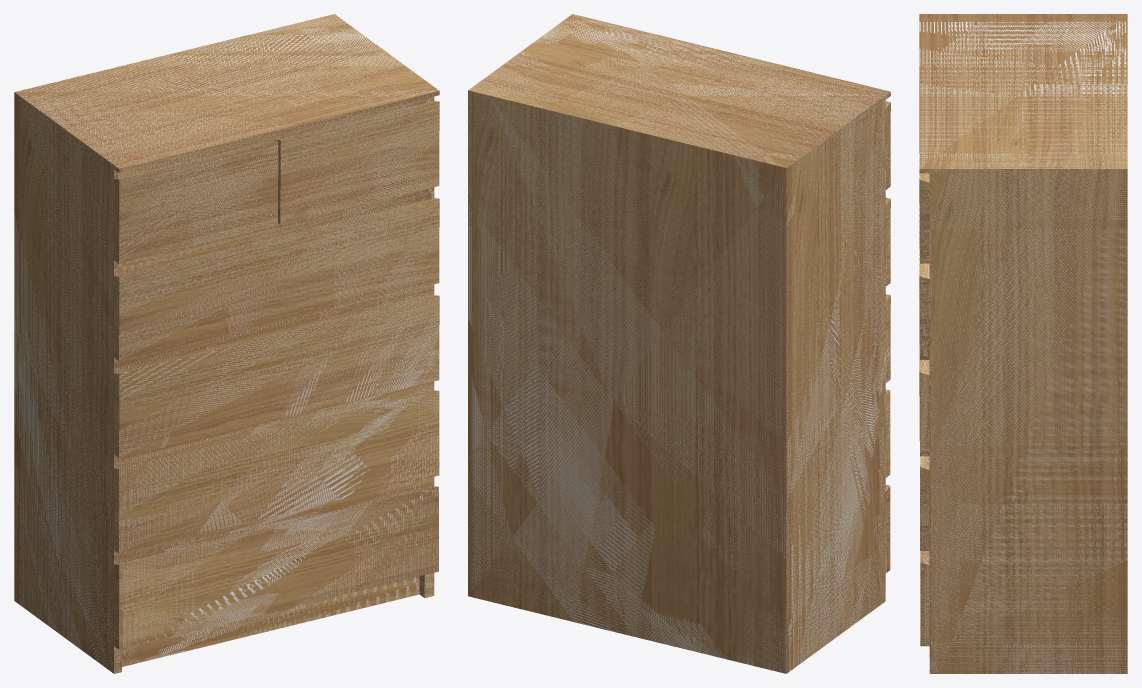
Rendered from Kommode_Malm_hoch.dae.
The picture shows the model from 3 angles, left to right: view 1: azimuth 30°, elevation 25°; view 2: azimuth 150°, elevation 25°; view 3: azimuth 270°, elevation 25°; orthographic projection.
Visible parts, largest first — view 1: SketchUp; view 2: SketchUp; view 3: SketchUp.
Boxes of the visible parts, bbox=[...] form: SketchUp: bbox=[14, 14, 439, 673]; SketchUp: bbox=[468, 14, 890, 673]; SketchUp: bbox=[919, 14, 1127, 673].
Bounding box in the file's own units: 0.81 × 0.46 × 1.23.
Materials: 2 (1 with a texture image).
